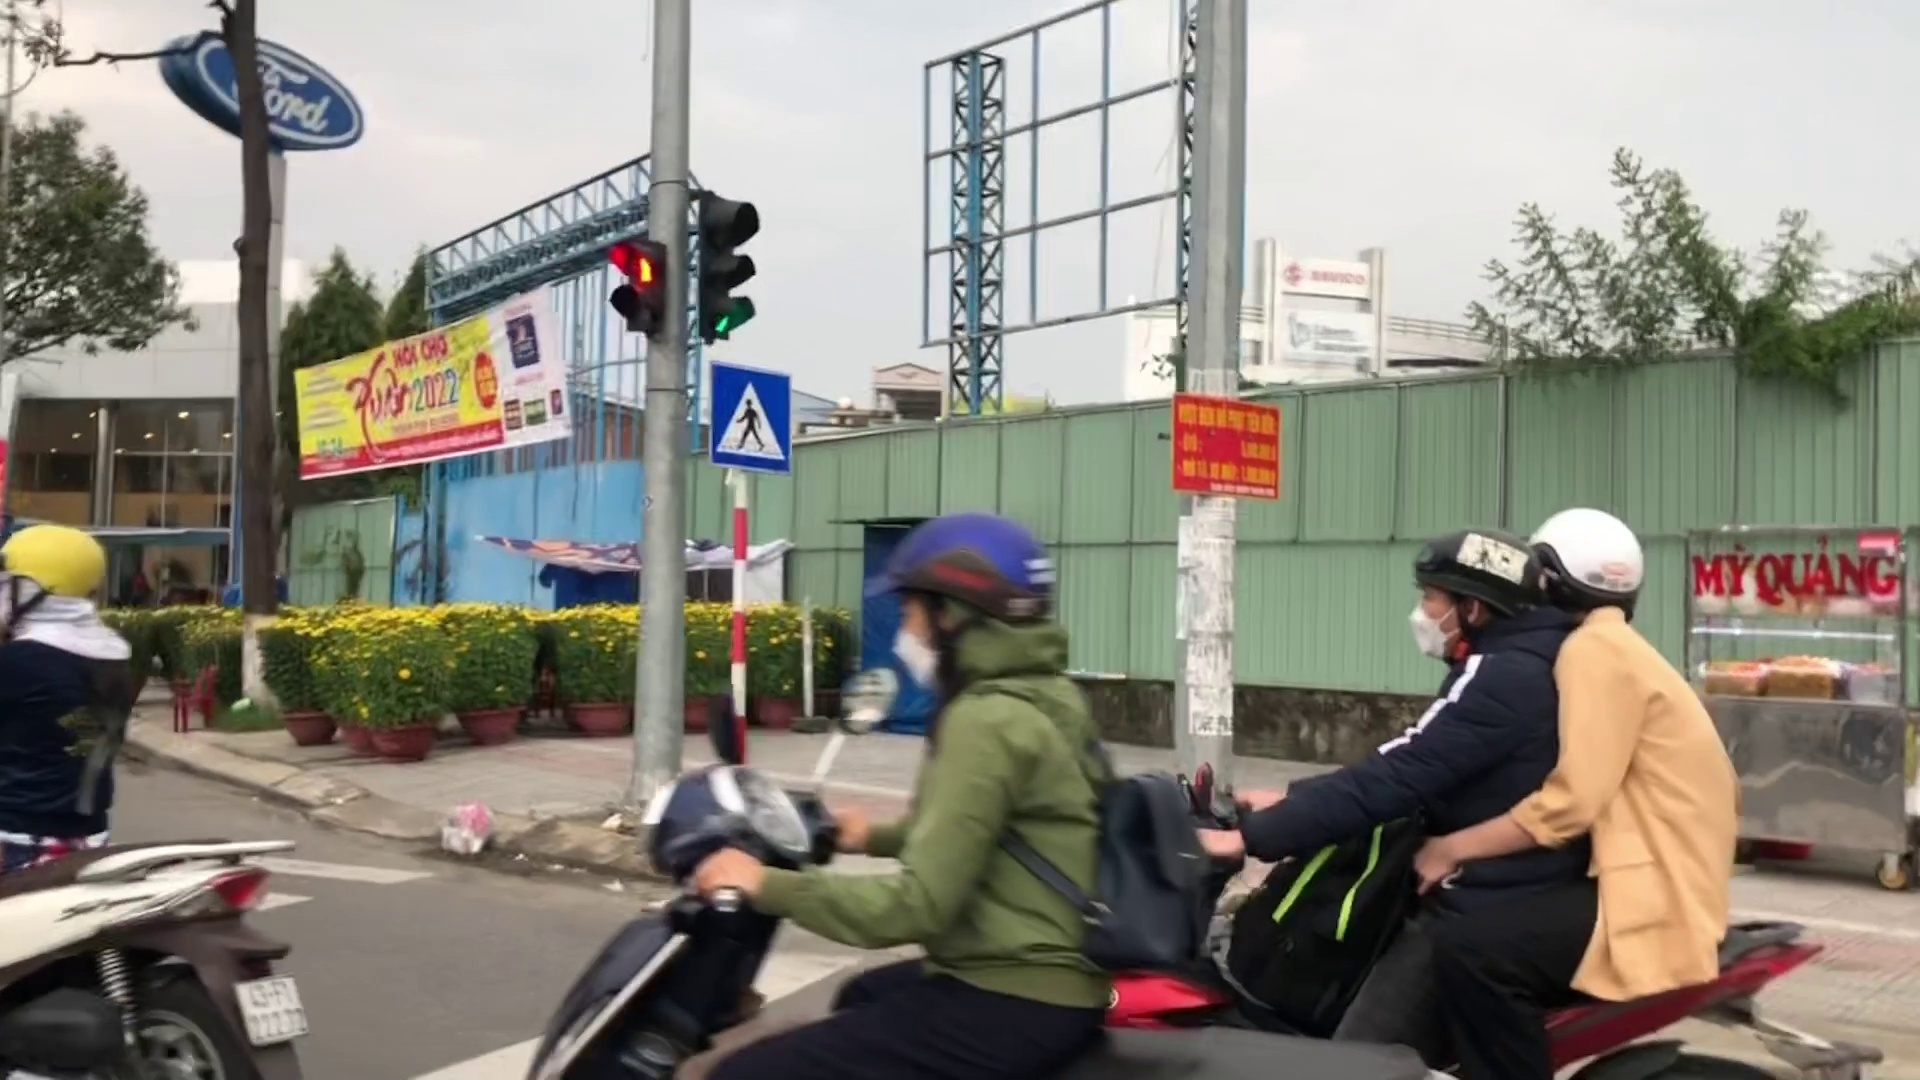Nguoi di bo: (708, 361, 789, 473)
